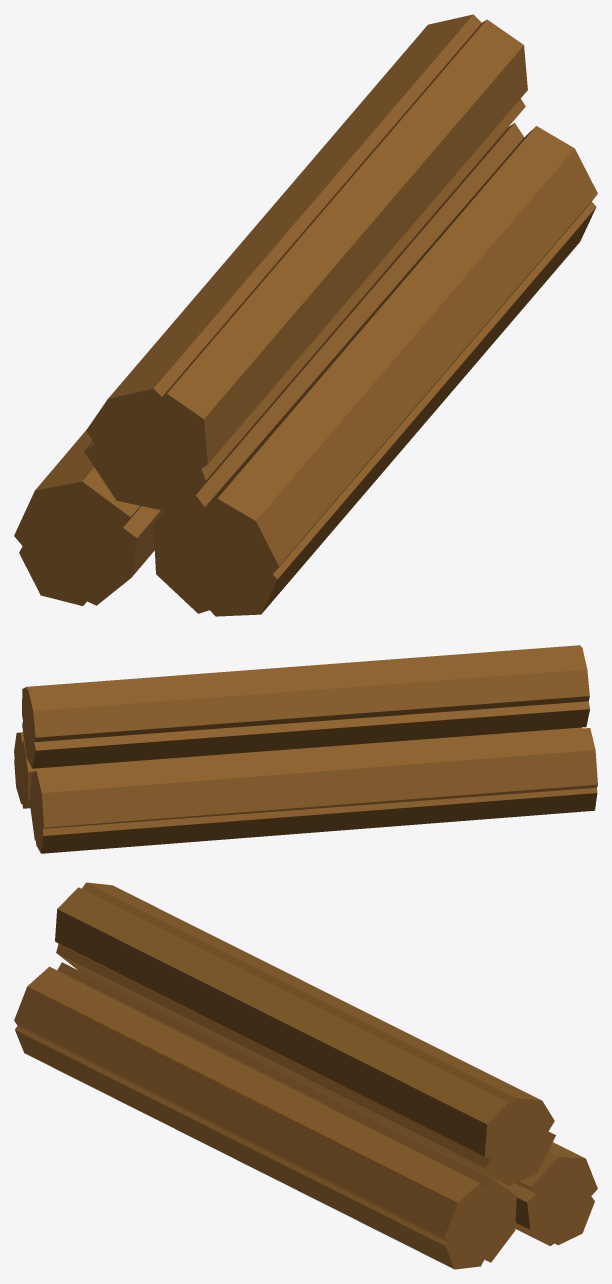
The model's file is woods.fbx.
The picture shows the model from 3 angles, top to bottom: view 1: azimuth 30°, elevation 25°; view 2: azimuth 150°, elevation 25°; view 3: azimuth 270°, elevation 25°; orthographic projection. The views are drawn at different scales.
Visible parts, largest first — view 1: woods; view 2: woods; view 3: woods.
Boxes of the visible parts, box(x1,y1,x2,y2) form: woods: box(14, 14, 597, 616); woods: box(14, 645, 597, 853); woods: box(14, 882, 597, 1269).
Bounding box in the file's own units: 63.11 × 17.73 × 57.72.
